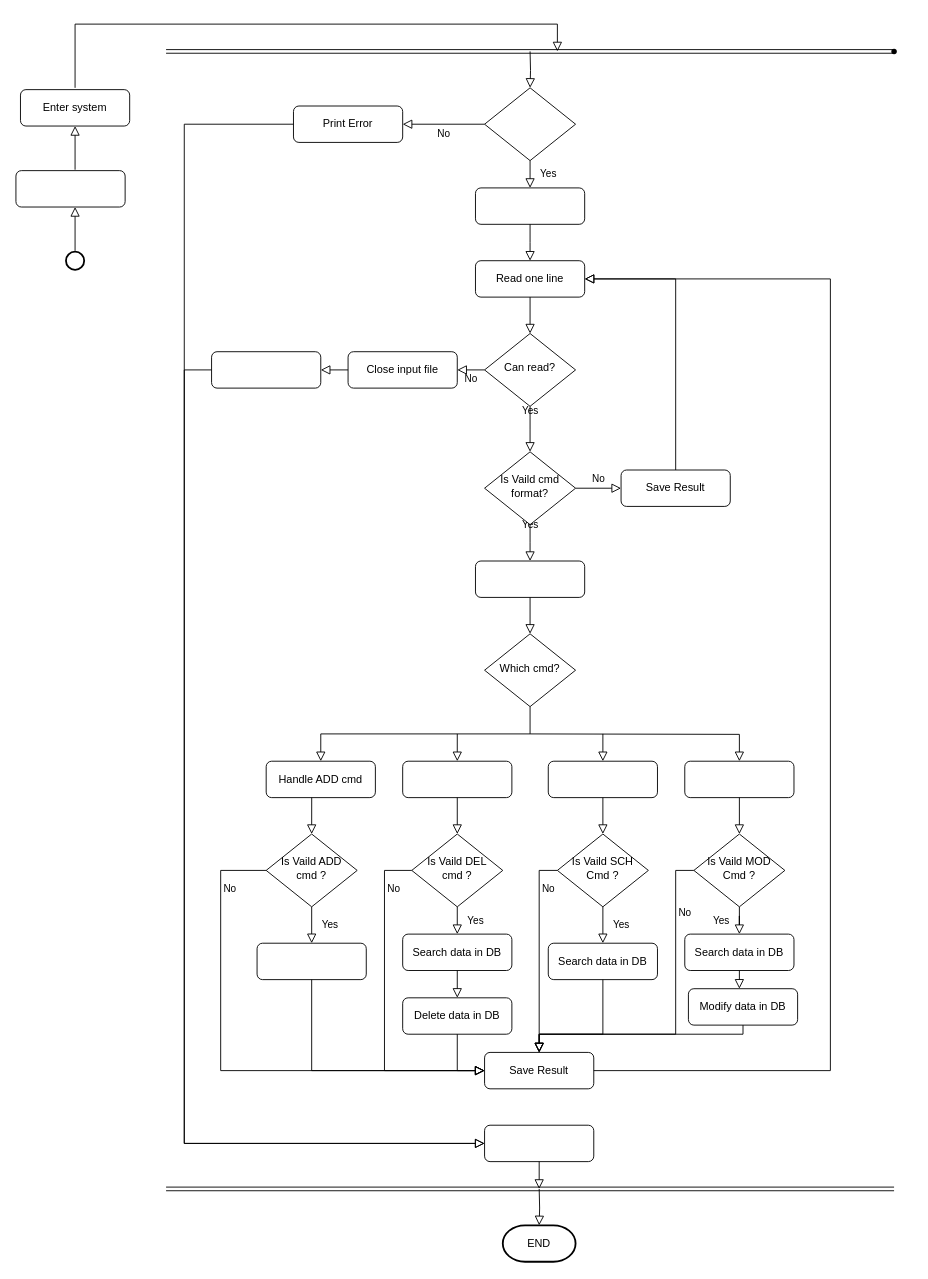
Some shapes in this 928 by 1279 pixel diagram are drawn without their labels. The shapes that lost their labels are listed below. From the top down, each one's box as (x1, y1, x2, y2) in pixels, then its label:
(484, 87, 576, 161): Argument vaild ?
(15, 170, 125, 207): Excute Program with argument
(475, 187, 585, 224): Open input file
(211, 351, 321, 388): Save output File
(475, 560, 585, 597): Classify Command
(402, 760, 512, 798): Handle DEL cmd
(547, 760, 657, 798): Handle SCH cmd
(684, 760, 794, 798): Handle MOD cmd
(256, 942, 366, 980): Add New data to DB
(484, 1124, 594, 1162): Exit Program
